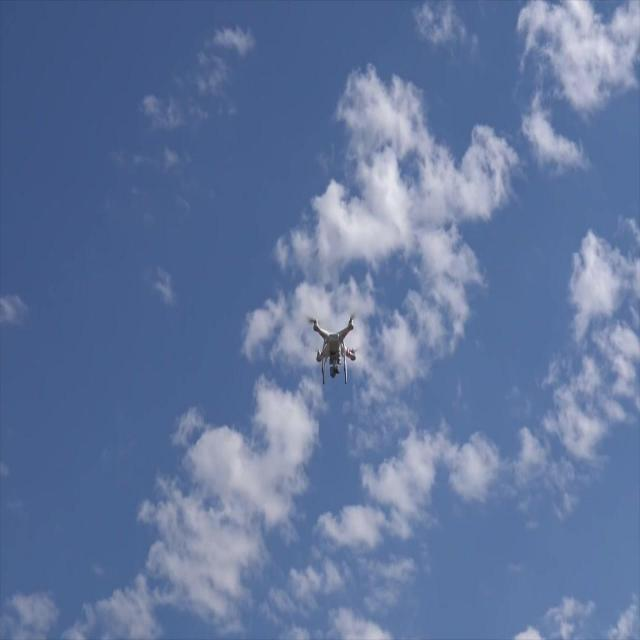UAV: (308, 314, 356, 384)
